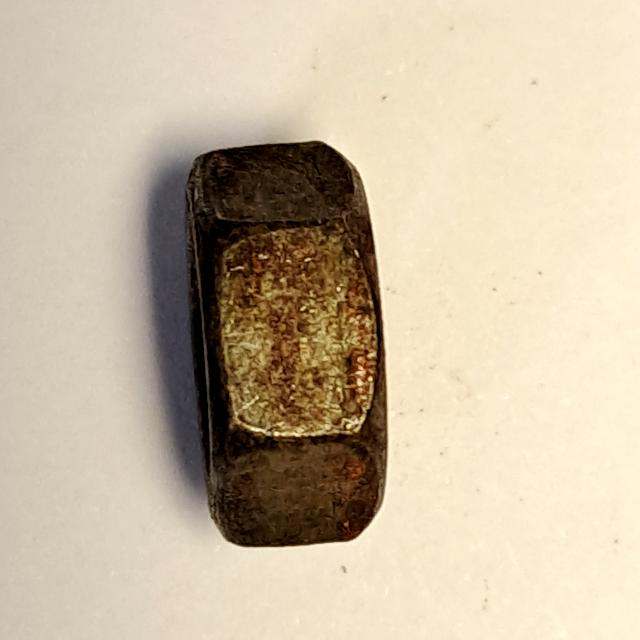Side_Rust: (170, 123, 407, 567)
